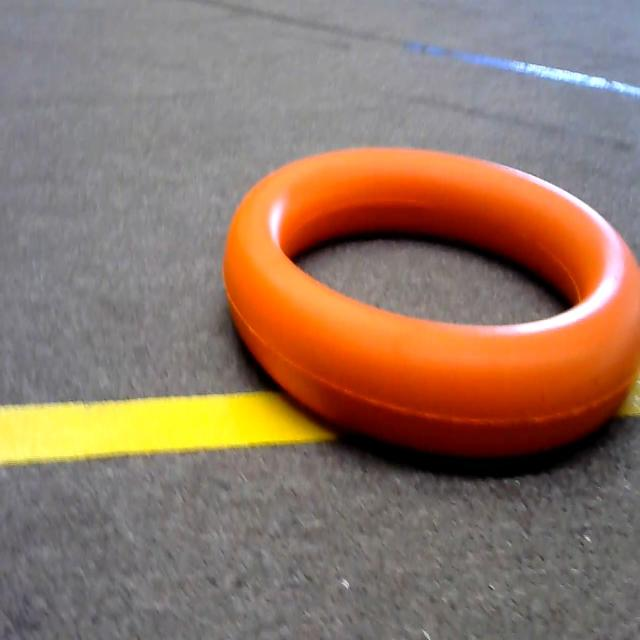note: (209, 120, 640, 492)
